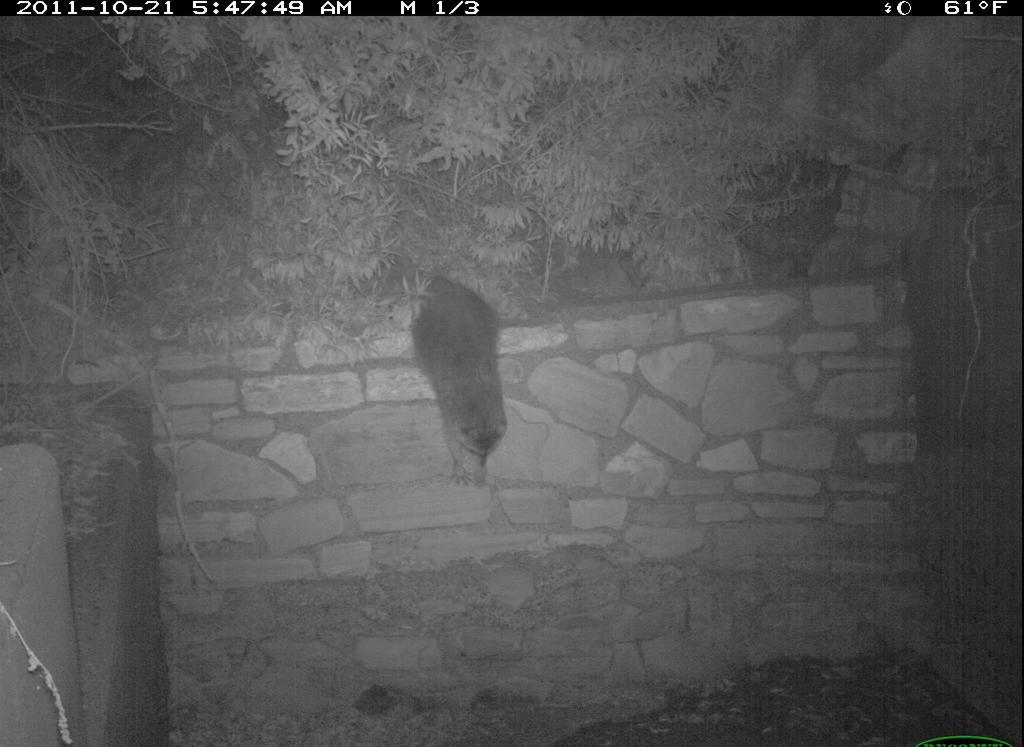raccoon: (408, 267, 516, 491)
